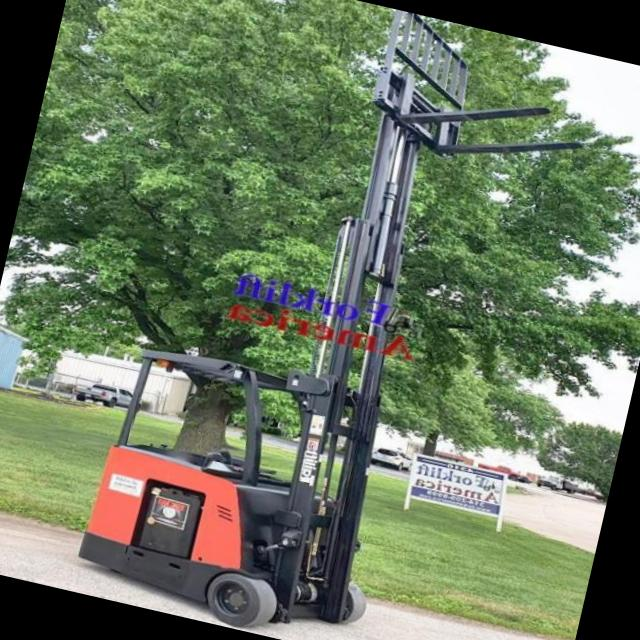forklift: (50, 317, 451, 640)
